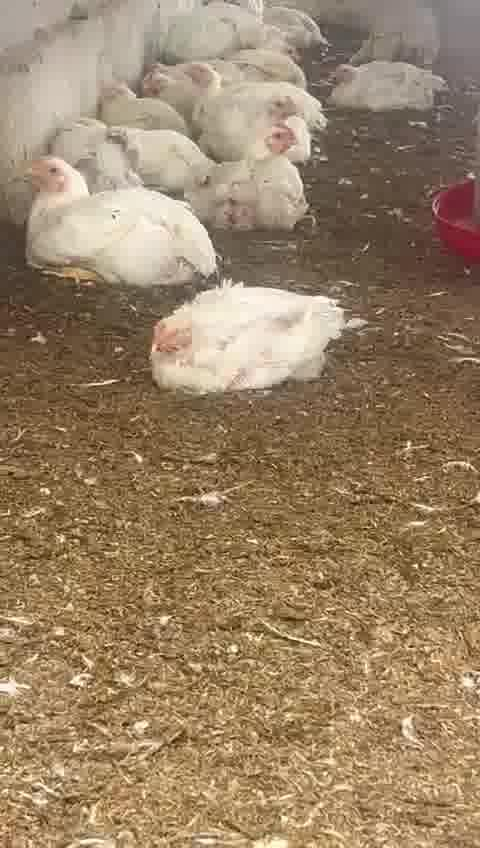AbNormal: (153, 273, 346, 396), (311, 48, 448, 110), (64, 118, 173, 183), (98, 80, 180, 139), (218, 42, 308, 84), (140, 59, 181, 110)
Normal: (16, 151, 213, 285), (199, 124, 312, 234), (182, 59, 318, 143)
